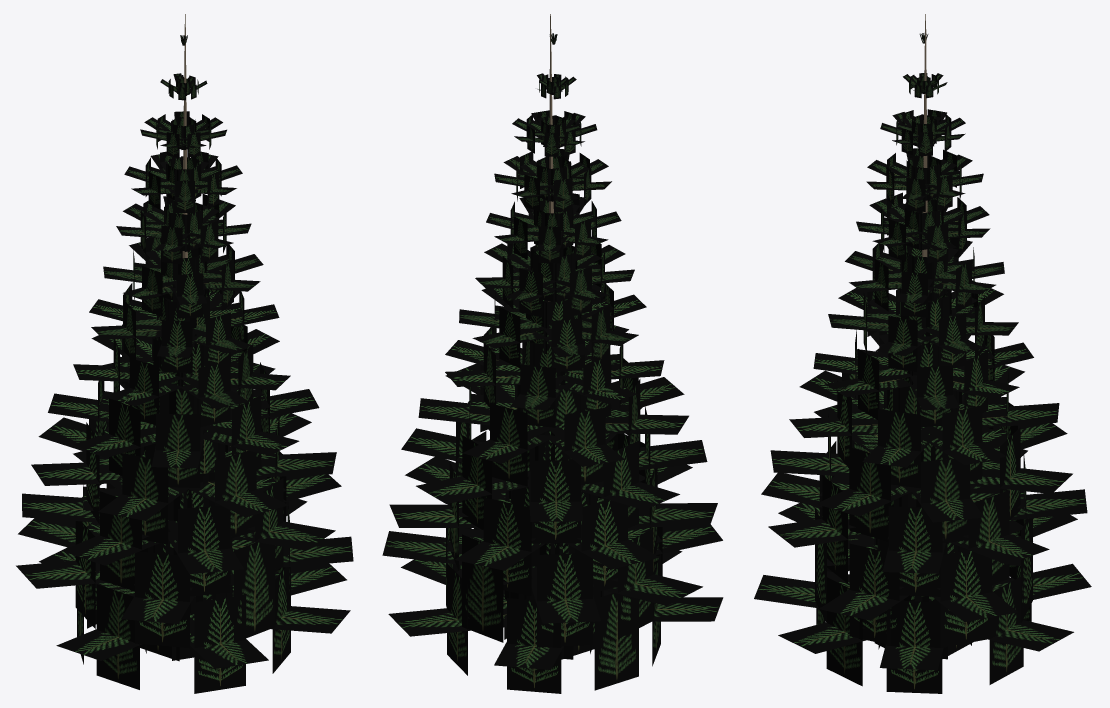
Rendered from Fir_1_LOD1.glb.
The picture shows the model from 3 angles, left to right: view 1: azimuth 30°, elevation 25°; view 2: azimuth 150°, elevation 25°; view 3: azimuth 270°, elevation 25°; orthographic projection.
Visible parts, largest first — view 1: Fir_1_LOD1; view 2: Fir_1_LOD1; view 3: Fir_1_LOD1.
Boxes of the visible parts, bbox=[...] form: Fir_1_LOD1: bbox=[16, 14, 353, 693]; Fir_1_LOD1: bbox=[382, 14, 723, 693]; Fir_1_LOD1: bbox=[754, 14, 1091, 693].
Bounding box in the file's own units: 12.41 × 25.68 × 12.48.
2 materials, 1 textured.
